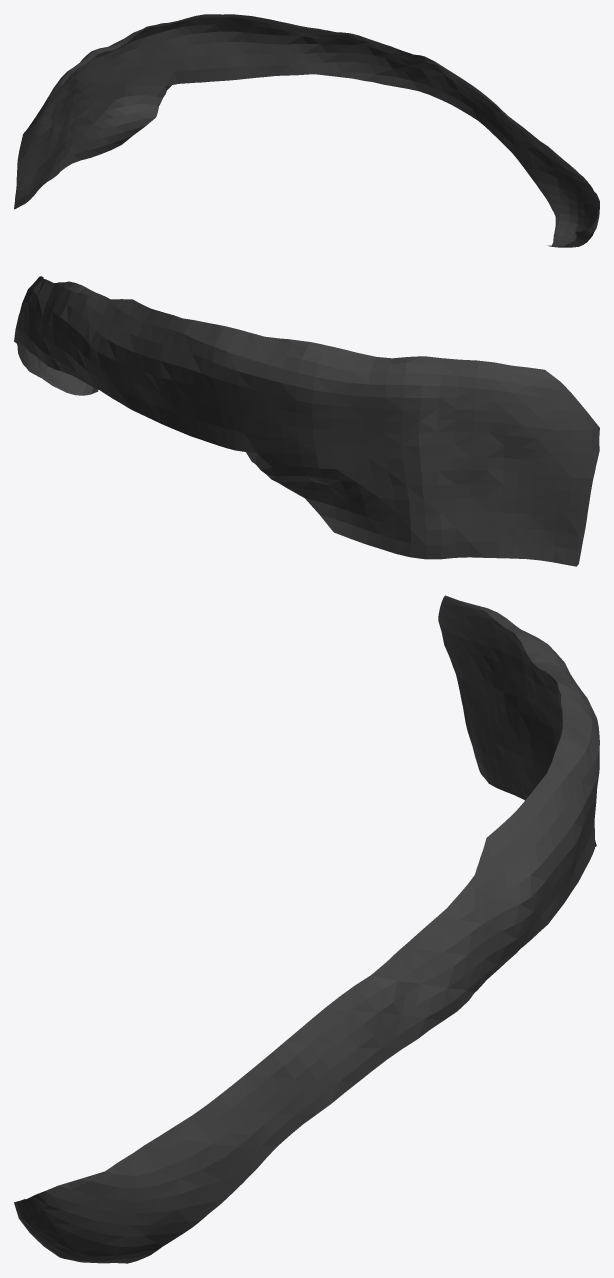
The model's file is eq_dist_limb_Hoof_Coronary_Corium.glb.
3 renders of one model, top to bottom at view 1: azimuth 30°, elevation 25°; view 2: azimuth 150°, elevation 25°; view 3: azimuth 270°, elevation 25°, orthographic. The views are drawn at different scales.
Visible parts, largest first — view 1: eq_dist_limb_Hoof_Coronary_Corium; view 2: eq_dist_limb_Hoof_Coronary_Corium; view 3: eq_dist_limb_Hoof_Coronary_Corium.
Part boxes in pixels (left/top/right/bottom): eq_dist_limb_Hoof_Coronary_Corium: left=14, top=14, right=599, bottom=247; eq_dist_limb_Hoof_Coronary_Corium: left=14, top=276, right=599, bottom=566; eq_dist_limb_Hoof_Coronary_Corium: left=14, top=595, right=599, bottom=1263.
Bounding box in the file's own units: 0.0131 × 0.00521 × 0.00809.
Materials: 1 (1 with a texture image).
